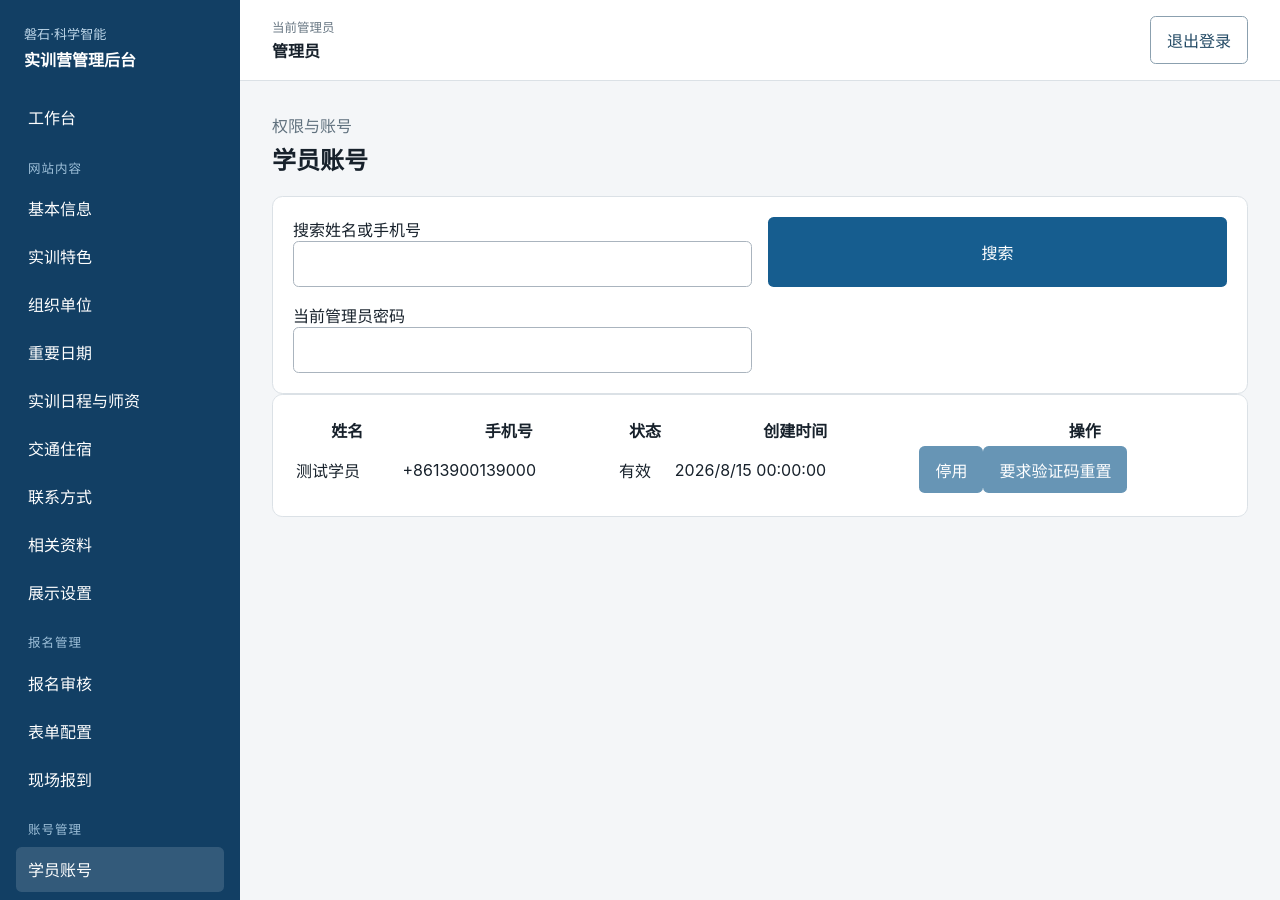
administrator route guard › requires confirmation and current password for a verification-based student reset
Expected: the text "测试学员" is shown, [295,445,400,494]
Type "CurrentAdmin!2026" into the password field labelled "当前管理员密码". click: [522, 350]
box: [293,327,752,373]
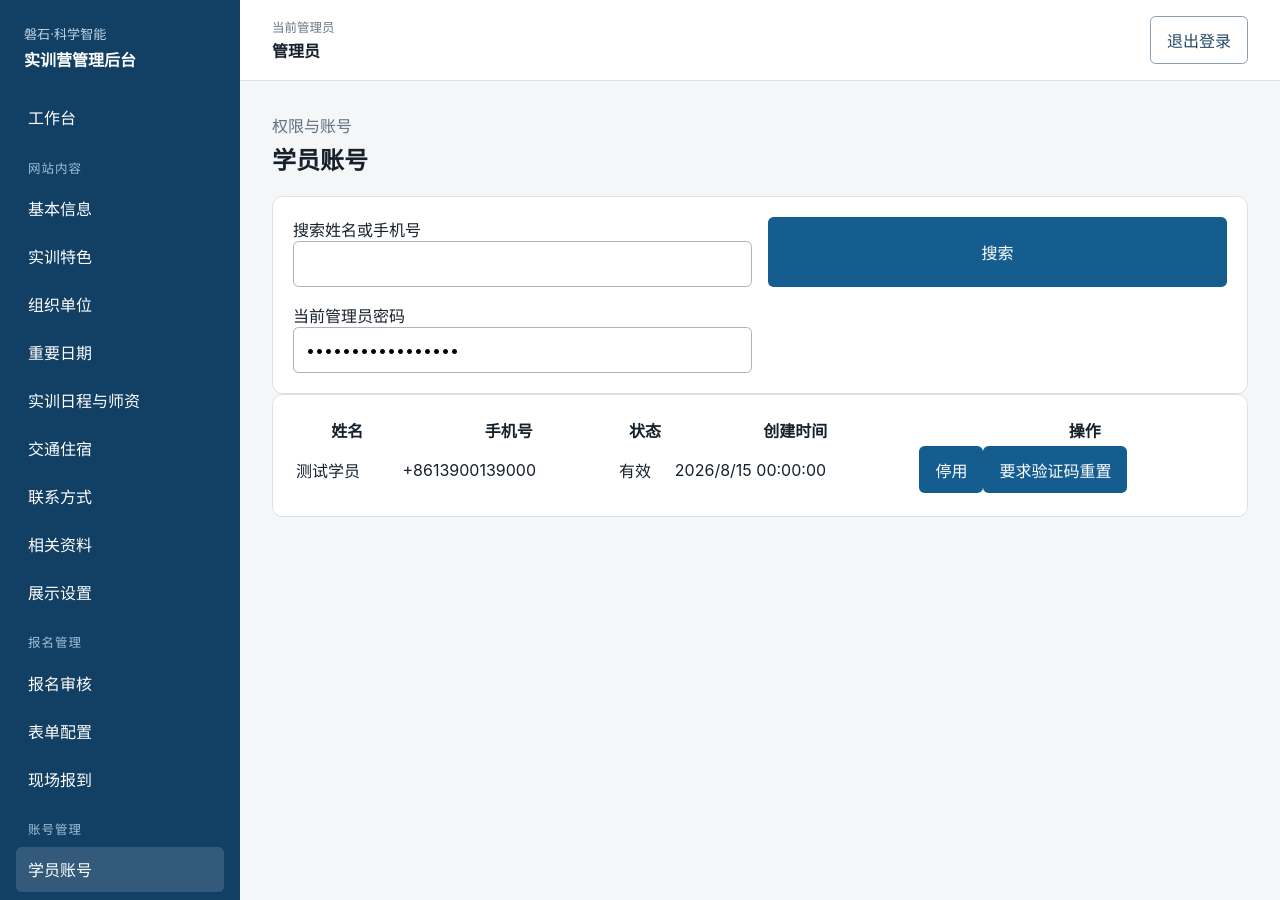
Click the button "要求验证码重置". click: [1056, 470]
box: [984,446,1128,493]
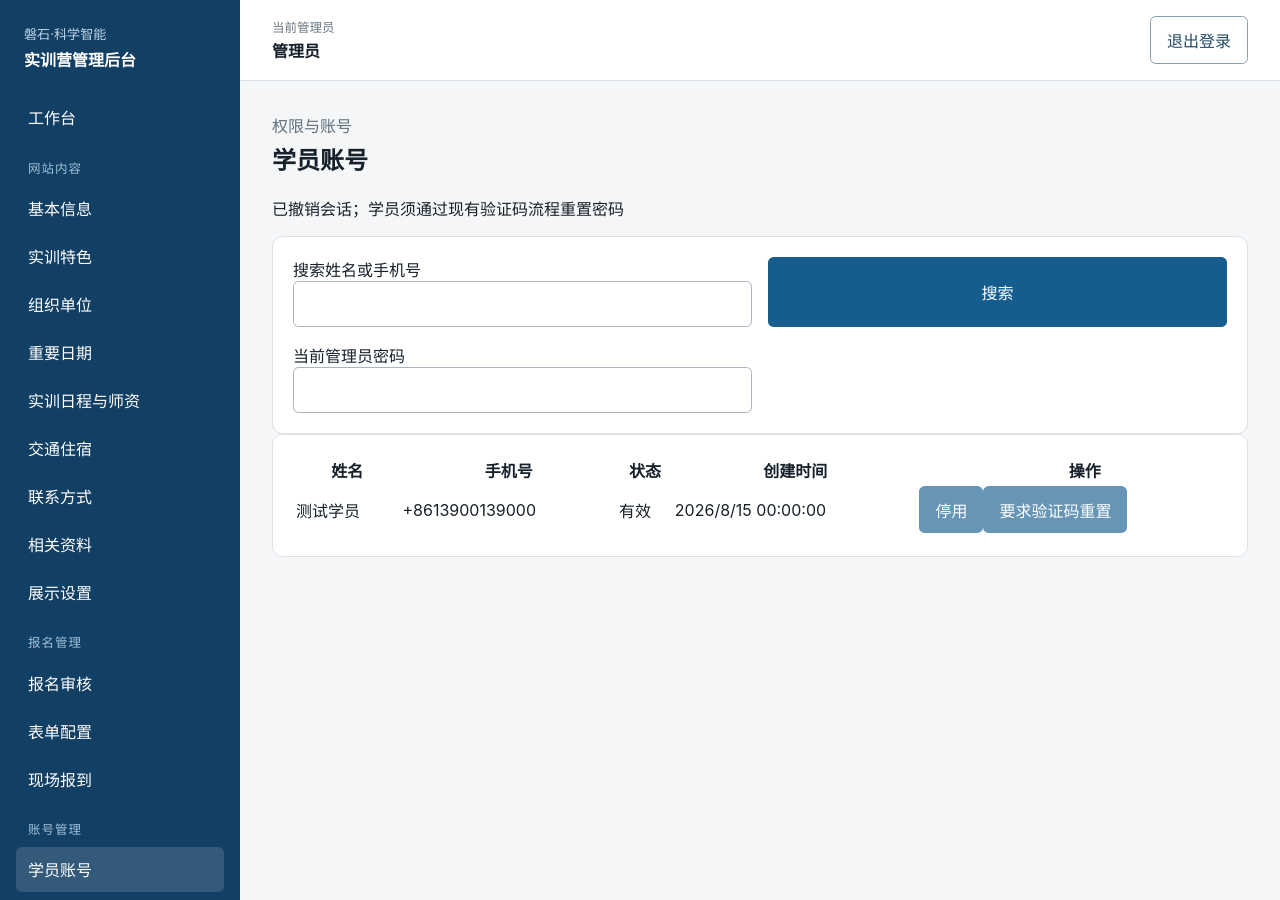
Now the message shows "学员须通过现有验证码流程重置密码", box [272,199,624,219]
